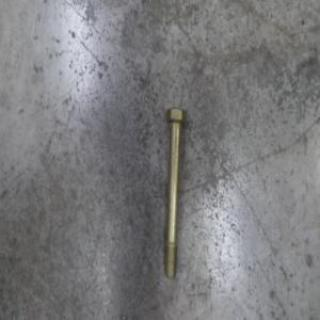Bolttrack_idkeyframe: (163, 103, 186, 279)
